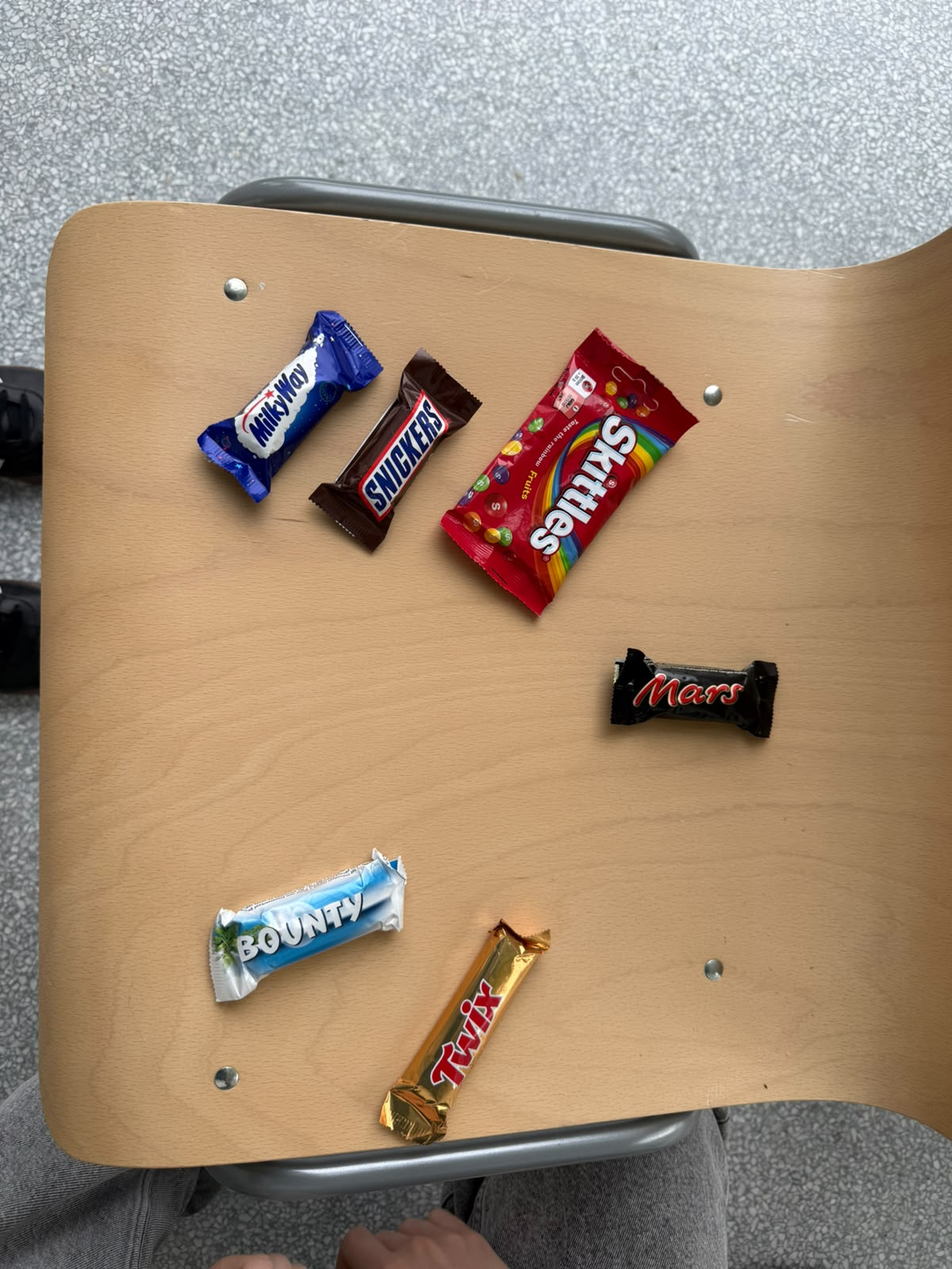Bounty: (158, 930, 424, 1037)
Mars: (602, 616, 787, 759)
MilkyWay: (144, 453, 397, 582)
Skittles: (389, 545, 715, 724)
Snickers: (247, 540, 540, 662)
Twix: (313, 1159, 668, 1265)
